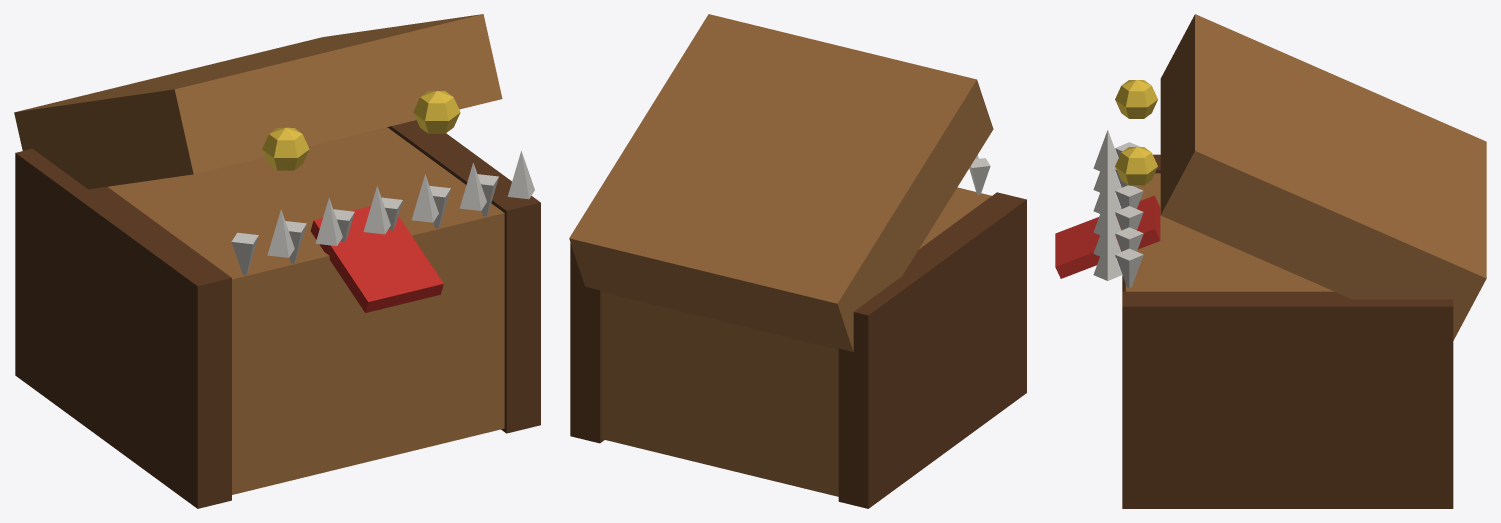
The model's file is e_mimic.fbx.
3 views of the same model, side by side, from view 1: azimuth 30°, elevation 25°; view 2: azimuth 150°, elevation 25°; view 3: azimuth 270°, elevation 25° (orthographic). The views are drawn at different scales.
Parts seen in each view (by area): view 1: e_mimic_Body; view 2: e_mimic_Body; view 3: e_mimic_Body.
Boxes of the visible parts, x1,y1,x2,y2 form: e_mimic_Body: (14,14,540,508); e_mimic_Body: (569,14,1026,508); e_mimic_Body: (1055,14,1486,508).
Bounding box in the file's own units: 1 × 1.07 × 1.2.
